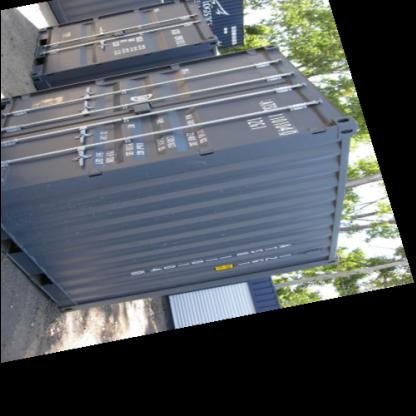Damage: (61, 194, 99, 216), (180, 154, 220, 172)
